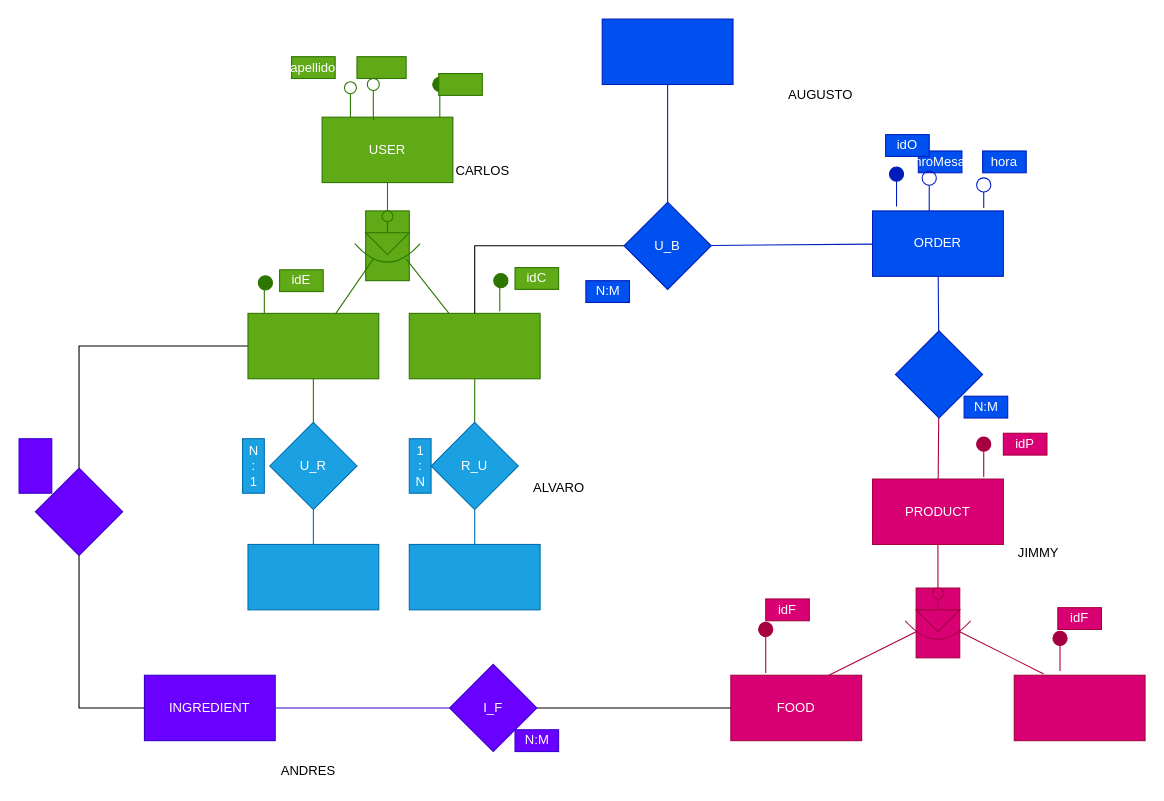
Image size: 1164x801. Some labels were removed from this diagram. Here are the shapes that lost their labels. From the top down, the centre of each, then its label:
point (381, 67): nombre
point (667, 51): BILL
point (460, 83): idU
point (313, 345): EMPLOYEE
point (474, 345): CUSTOMER
point (938, 374): O_P
point (35, 465): N : M
point (78, 511): E_I
point (313, 576): ROLE
point (474, 576): RATING
point (1079, 707): DRINK
